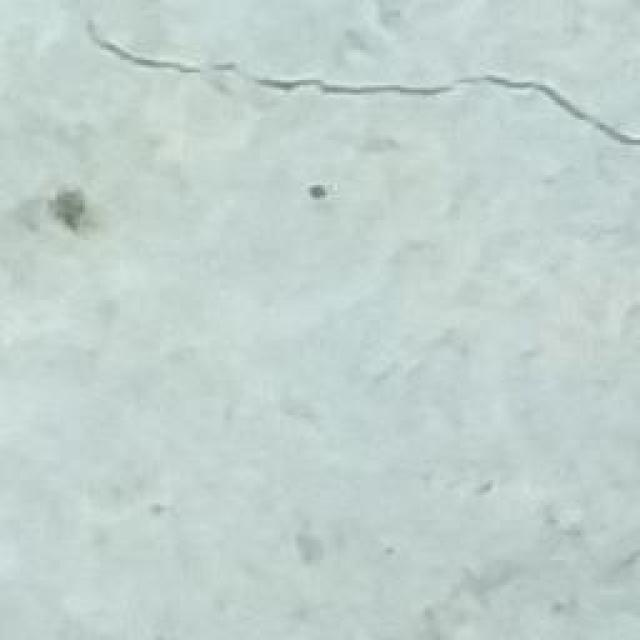Transverse: (52, 7, 640, 157)
